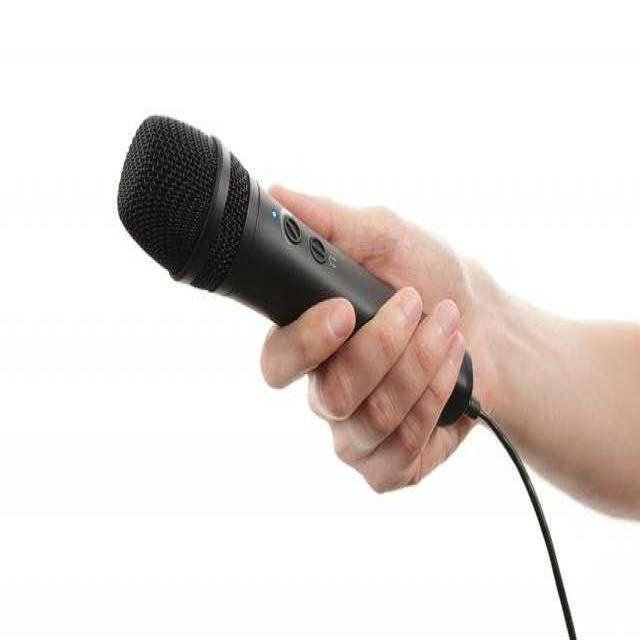microphone: (113, 113, 437, 420)
